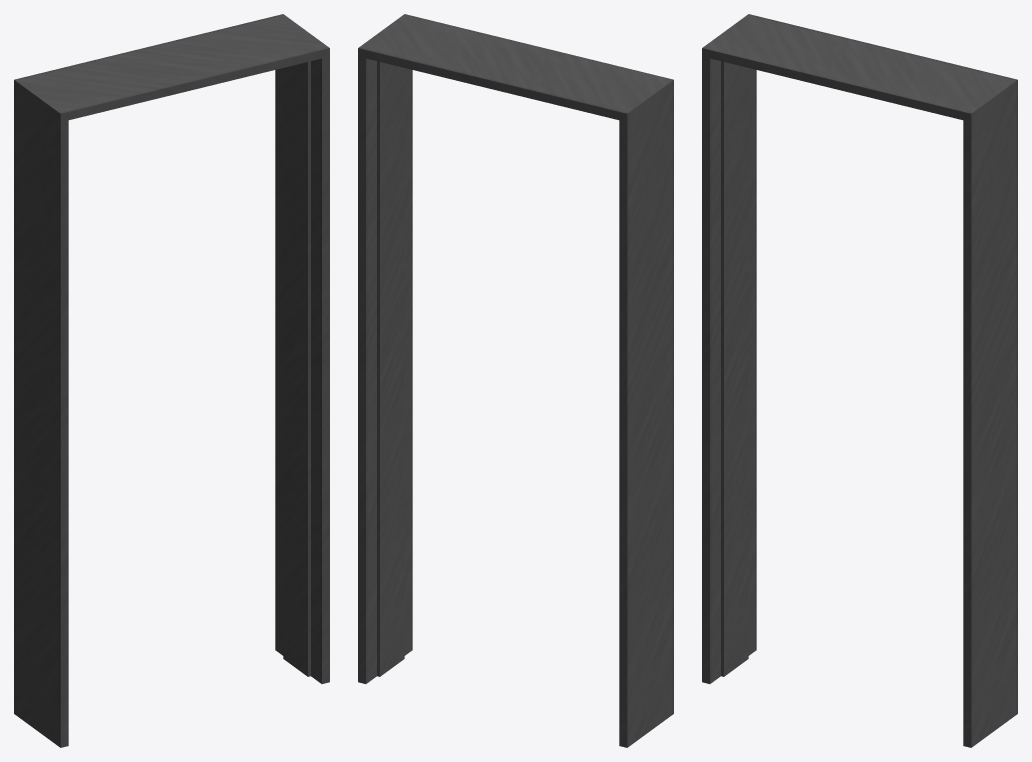
The model's file is DoorFrame1x2_25.gltf.
3 renders of one model, left to right at view 1: azimuth 30°, elevation 25°; view 2: azimuth 150°, elevation 25°; view 3: azimuth 330°, elevation 25°, orthographic.
Visible parts, largest first — view 1: DoorFrame1x2_25Shape; view 2: DoorFrame1x2_25Shape; view 3: DoorFrame1x2_25Shape.
Boxes of the visible parts, box(x1,y1,x2,y2) form: DoorFrame1x2_25Shape: box(14, 14, 329, 747); DoorFrame1x2_25Shape: box(358, 14, 673, 747); DoorFrame1x2_25Shape: box(702, 14, 1017, 747).
Size of the model in its own units: 1 by 2.25 by 0.3.
Materials: 1 (1 with a texture image).
